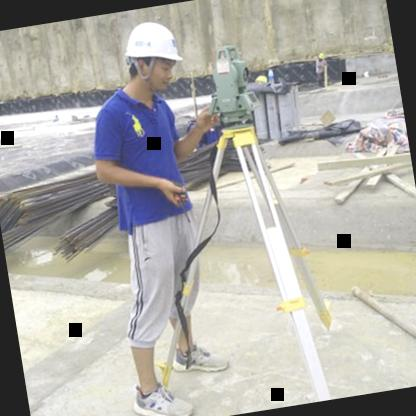helmet: (118, 12, 190, 100)
